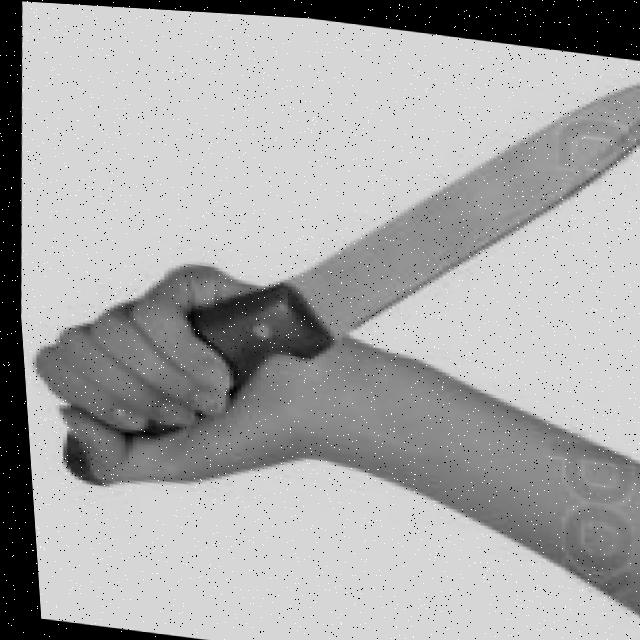knife: (178, 8, 640, 407)
